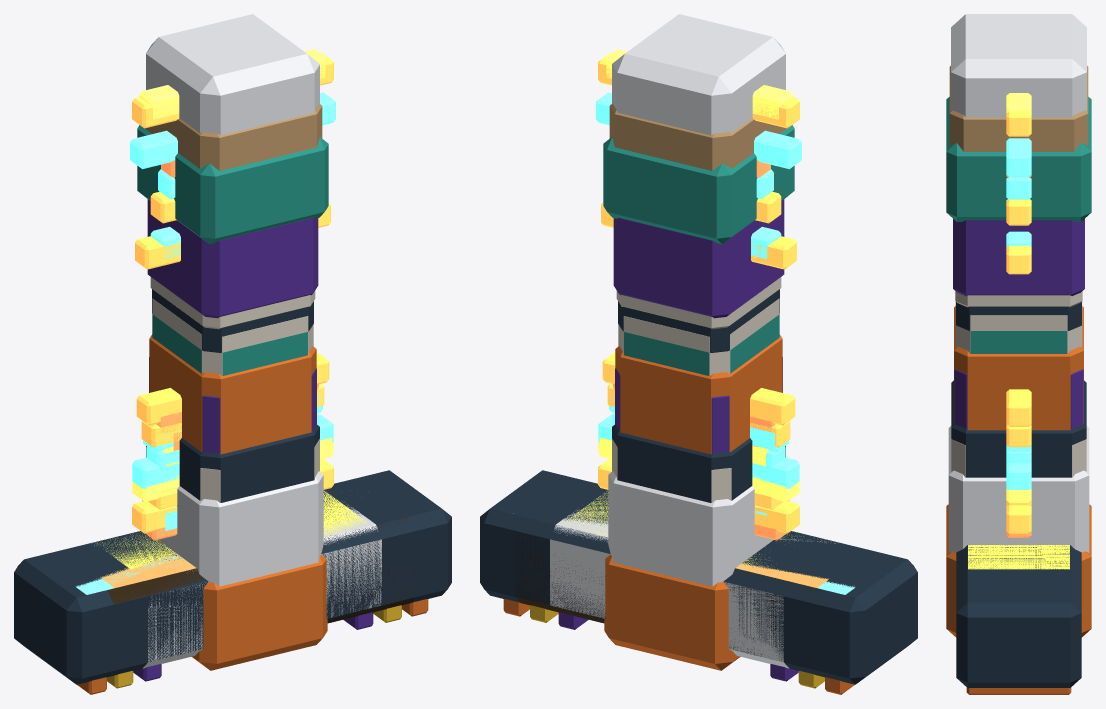
File: flagship_props_026.glb
3 views of the same model, side by side, from view 1: azimuth 30°, elevation 25°; view 2: azimuth 150°, elevation 25°; view 3: azimuth 270°, elevation 25° (orthographic). The views are drawn at different scales.
Parts seen in each view (by area): view 1: Prop_BBIsle_Trough_01, Prop_BBIsle_Totem_07, Prop_BBIsle_Totem_08, Prop_BBIsle_Totem_12, Prop_BBIsle_Totem_10, Prop_BBIsle_Trough_00, Prop_BBIsle_Totem_11, Prop_BBIsle_Totem_18, Prop_BBIsle_Trough_02, Prop_BBIsle_Totem_15, Prop_BBIsle_Totem_17; view 2: Prop_BBIsle_Trough_01, Prop_BBIsle_Totem_07, Prop_BBIsle_Totem_08, Prop_BBIsle_Totem_12, Prop_BBIsle_Totem_10, Prop_BBIsle_Trough_00, Prop_BBIsle_Totem_11, Prop_BBIsle_Totem_18, Prop_BBIsle_Totem_15, Prop_BBIsle_Trough_02, Prop_BBIsle_Totem_17; view 3: Prop_BBIsle_Totem_07, Prop_BBIsle_Totem_12, Prop_BBIsle_Trough_01, Prop_BBIsle_Totem_10, Prop_BBIsle_Totem_08, Prop_BBIsle_Totem_11, Prop_BBIsle_Totem_18, Prop_BBIsle_Trough_00, Prop_BBIsle_Totem_15, Prop_BBIsle_Totem_17, Prop_BBIsle_Totem_06.
Boxes of the visible parts, x1,y1,x2,y2 form: Prop_BBIsle_Trough_01: [14, 470, 451, 694]; Prop_BBIsle_Totem_07: [135, 199, 330, 586]; Prop_BBIsle_Totem_08: [149, 169, 327, 670]; Prop_BBIsle_Totem_12: [132, 14, 333, 509]; Prop_BBIsle_Totem_10: [132, 49, 333, 502]; Prop_BBIsle_Trough_00: [91, 491, 381, 681]; Prop_BBIsle_Totem_11: [130, 92, 335, 258]; Prop_BBIsle_Totem_18: [132, 415, 333, 502]; Prop_BBIsle_Trough_02: [100, 517, 415, 688]; Prop_BBIsle_Totem_15: [152, 240, 313, 466]; Prop_BBIsle_Totem_17: [132, 459, 333, 533]; Prop_BBIsle_Trough_01: [480, 470, 917, 694]; Prop_BBIsle_Totem_07: [601, 199, 796, 586]; Prop_BBIsle_Totem_08: [604, 169, 782, 670]; Prop_BBIsle_Totem_12: [598, 14, 799, 509]; Prop_BBIsle_Totem_10: [598, 49, 799, 502]; Prop_BBIsle_Trough_00: [550, 490, 835, 681]; Prop_BBIsle_Totem_11: [596, 92, 801, 258]; Prop_BBIsle_Totem_18: [598, 415, 799, 502]; Prop_BBIsle_Totem_15: [618, 256, 779, 466]; Prop_BBIsle_Trough_02: [515, 517, 828, 688]; Prop_BBIsle_Totem_17: [598, 459, 799, 533]; Prop_BBIsle_Totem_07: [948, 219, 1089, 552]; Prop_BBIsle_Totem_12: [951, 14, 1086, 505]; Prop_BBIsle_Trough_01: [956, 545, 1081, 694]; Prop_BBIsle_Totem_10: [946, 93, 1091, 502]; Prop_BBIsle_Totem_08: [946, 177, 1091, 637]; Prop_BBIsle_Totem_11: [949, 66, 1088, 246]; Prop_BBIsle_Totem_18: [951, 380, 1086, 489]; Prop_BBIsle_Trough_00: [968, 545, 1069, 569]; Prop_BBIsle_Totem_15: [955, 302, 1082, 353]; Prop_BBIsle_Totem_17: [1006, 505, 1031, 533]; Prop_BBIsle_Totem_06: [1006, 449, 1031, 464].
Bounding box in the file's own units: 2.09 × 3.05 × 0.6945.
